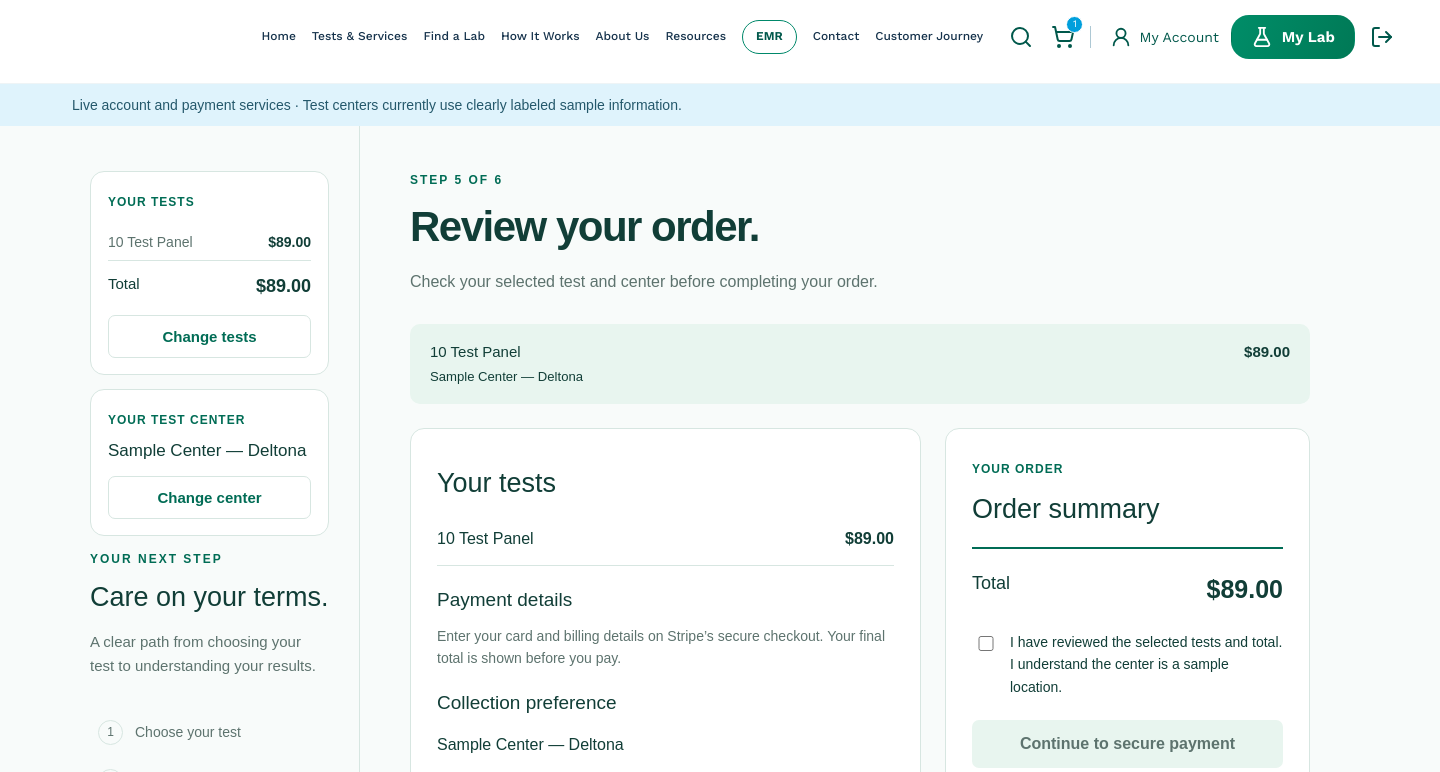
it: checkout sends real IDs without sending a dummy lab as a real facility
Click the checkbox at (986, 643), box [977,636,995,651]
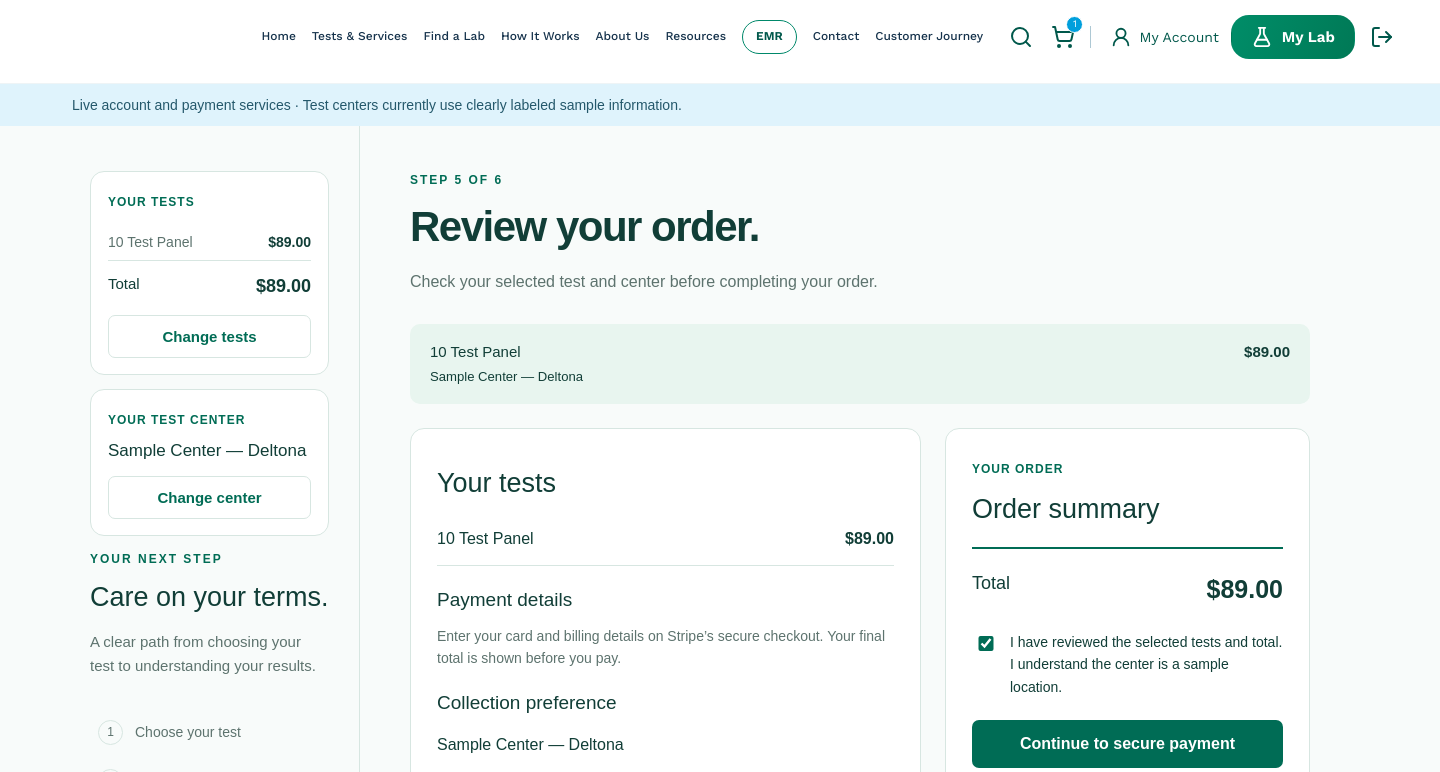
Click the button "Continue to secure payment" at (1128, 744), box [972,720,1283,768]
(page scrolled)
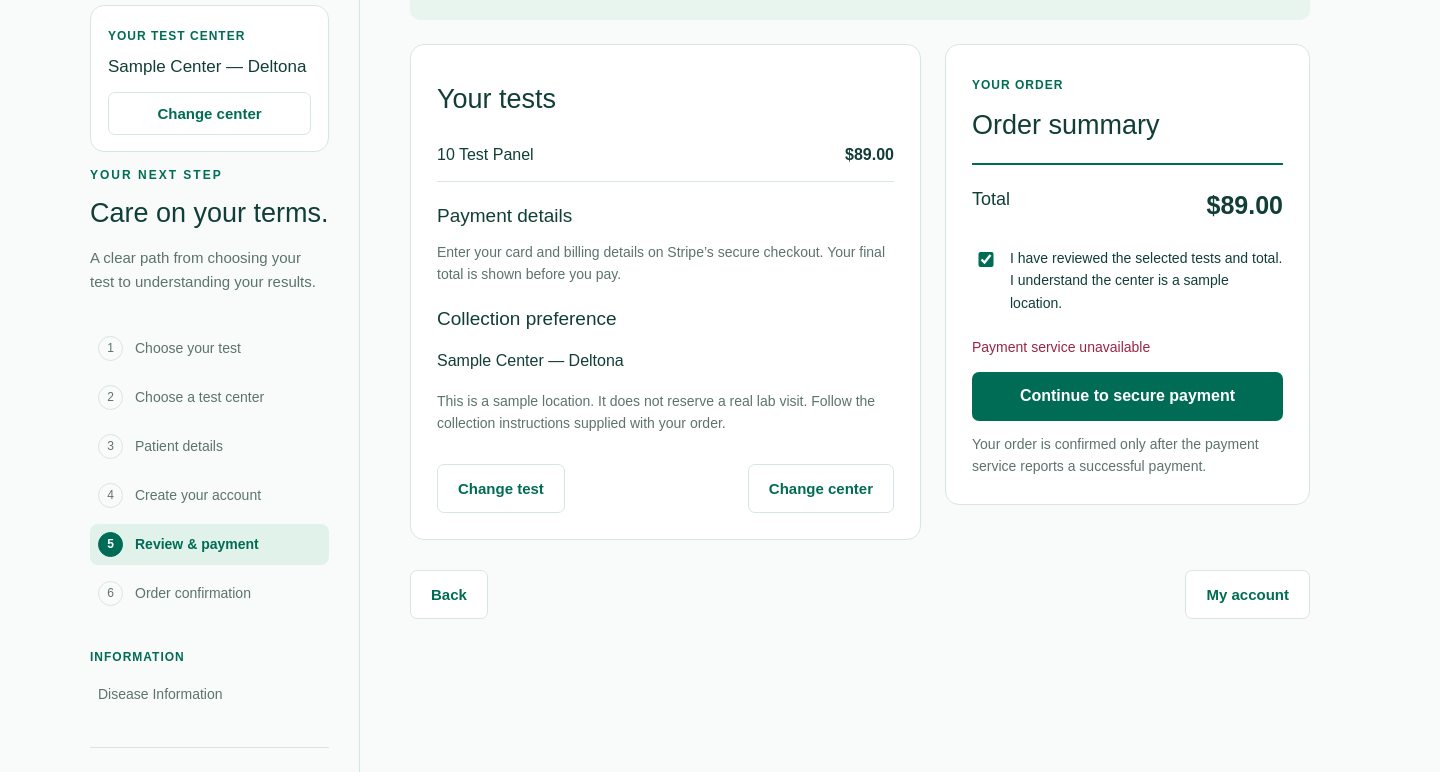
Expected: the button "Continue to secure payment" is enabled, [972,372,1283,421]
Expected: the text "Payment service unavailable" is shown, [972,339,1150,355]
